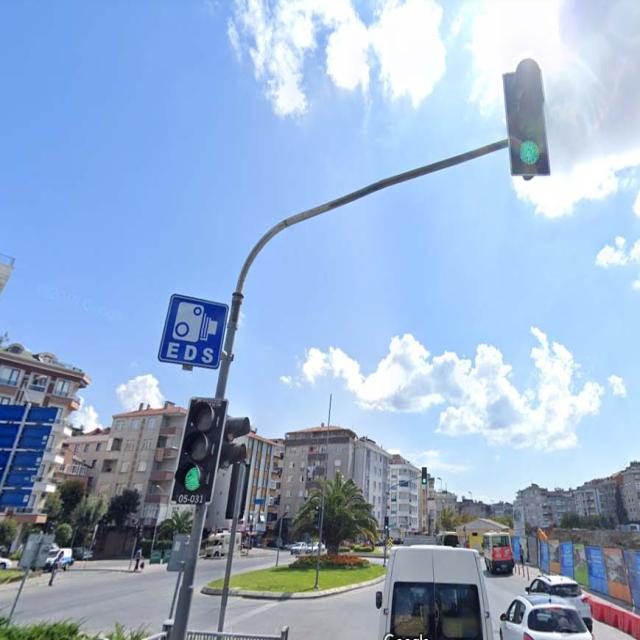yesil: (176, 394, 226, 504), (503, 62, 550, 178)
